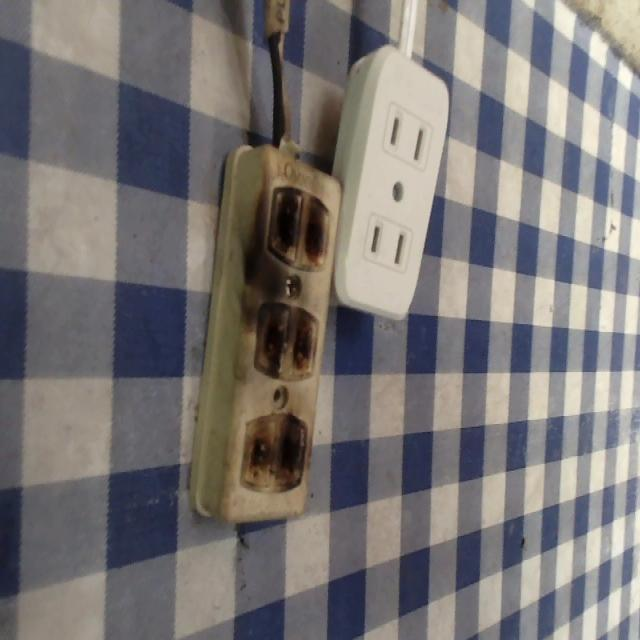-: (263, 176, 332, 275), (238, 413, 309, 492), (257, 299, 323, 381)
